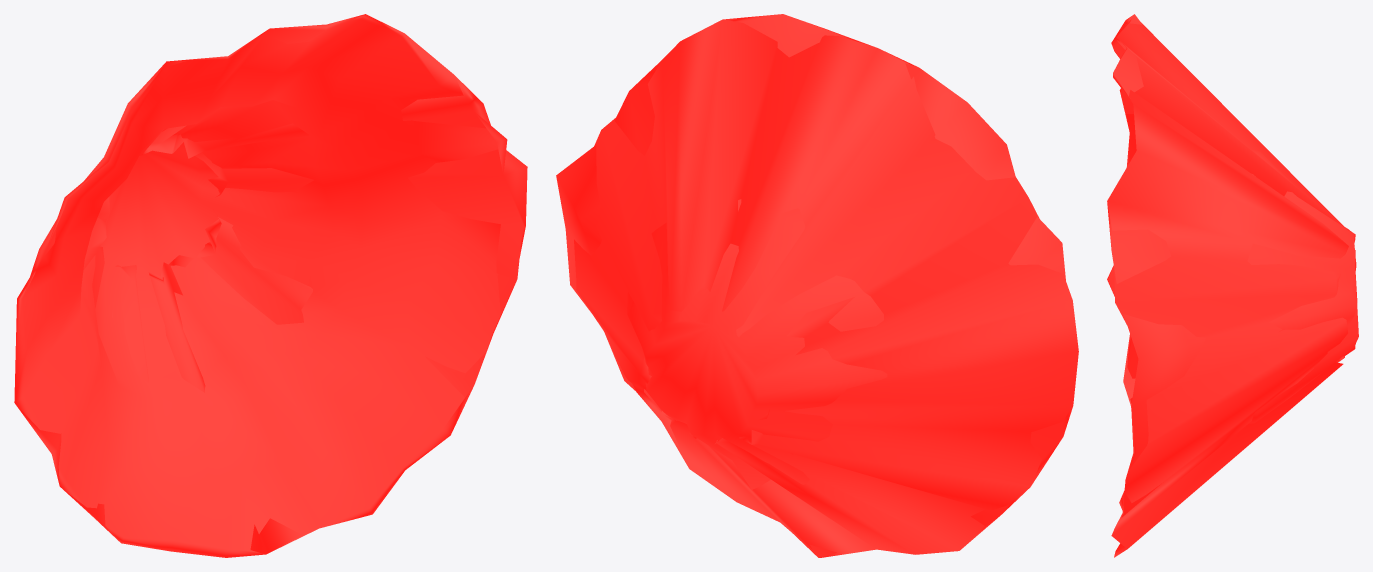
Rendered from TRT_MuzzleFlash.fbx.
The picture shows the model from 3 angles, left to right: view 1: azimuth 30°, elevation 25°; view 2: azimuth 150°, elevation 25°; view 3: azimuth 270°, elevation 25°; orthographic projection. The views are drawn at different scales.
Parts seen in each view (by area): view 1: Cylinder; view 2: Cylinder; view 3: Cylinder.
Boxes of the visible parts, bbox=[...] form: Cylinder: bbox=[14, 14, 527, 557]; Cylinder: bbox=[556, 14, 1078, 557]; Cylinder: bbox=[1107, 14, 1358, 557].
Size of the model in its own units: 82.97 by 80.82 by 37.7.
